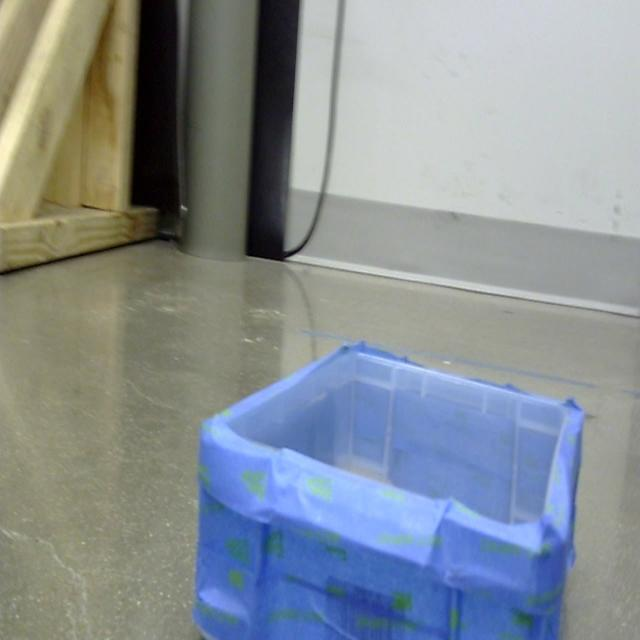bucket: (192, 344, 586, 640)
